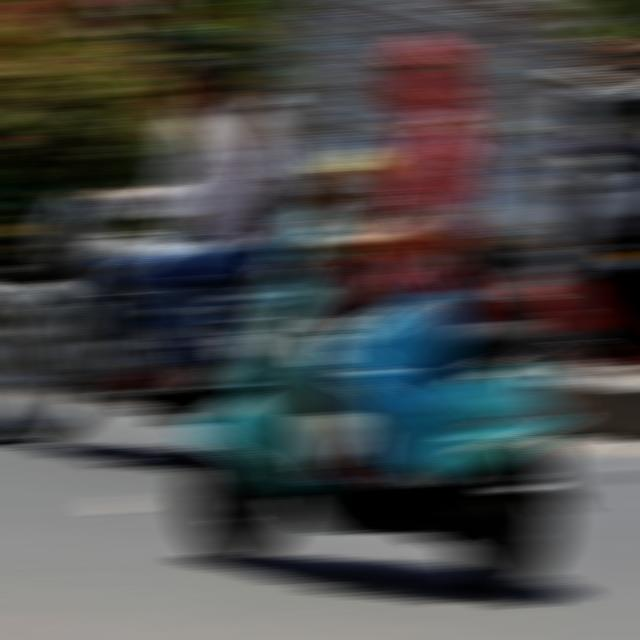Without Helmet: (378, 25, 465, 116), (141, 38, 208, 121)
